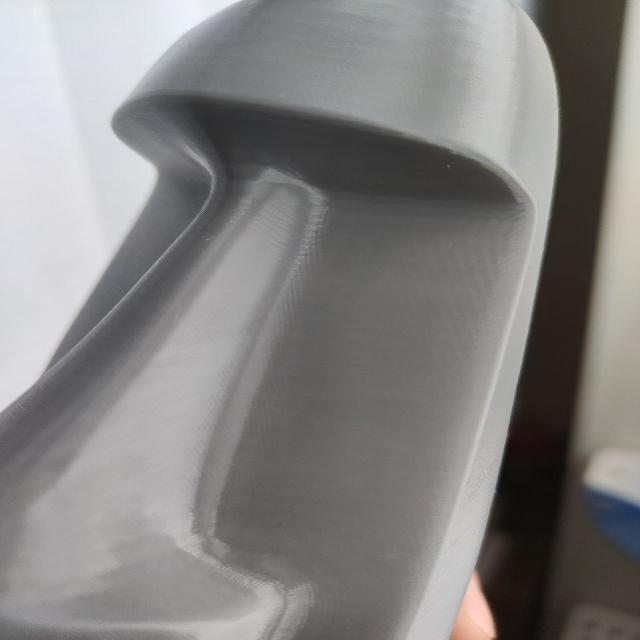Without deffect: (4, 4, 591, 640)
